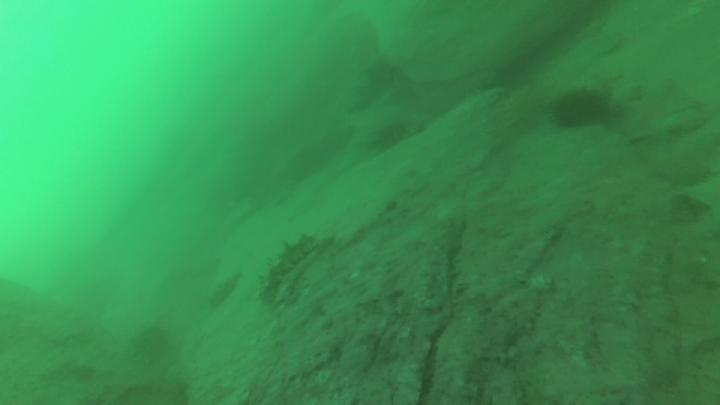echinus: (544, 81, 618, 136)
holothurian: (257, 232, 323, 307), (206, 268, 245, 312)
